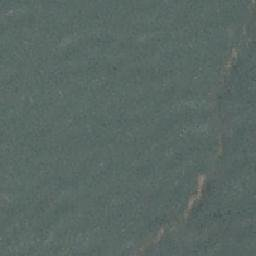debris: (185, 173, 203, 215), (224, 49, 237, 79), (154, 226, 165, 249)
